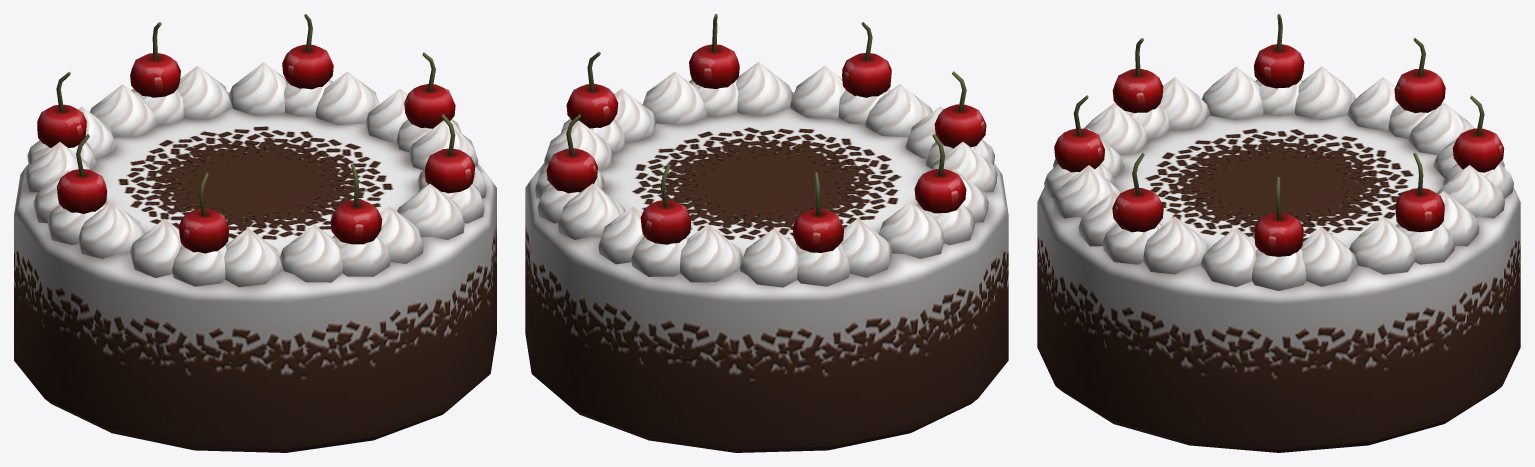
File: 008-Cake01.FBX
3 views of the same model, side by side, from view 1: azimuth 30°, elevation 25°; view 2: azimuth 150°, elevation 25°; view 3: azimuth 270°, elevation 25° (orthographic).
Visible parts, largest first — view 1: 008-Cake01; view 2: 008-Cake01; view 3: 008-Cake01.
Boxes of the visible parts, bbox=[...] form: 008-Cake01: bbox=[14, 14, 496, 452]; 008-Cake01: bbox=[525, 14, 1008, 452]; 008-Cake01: bbox=[1037, 14, 1520, 452].
Bounding box in the file's own units: 32.57 × 19.24 × 32.57.
